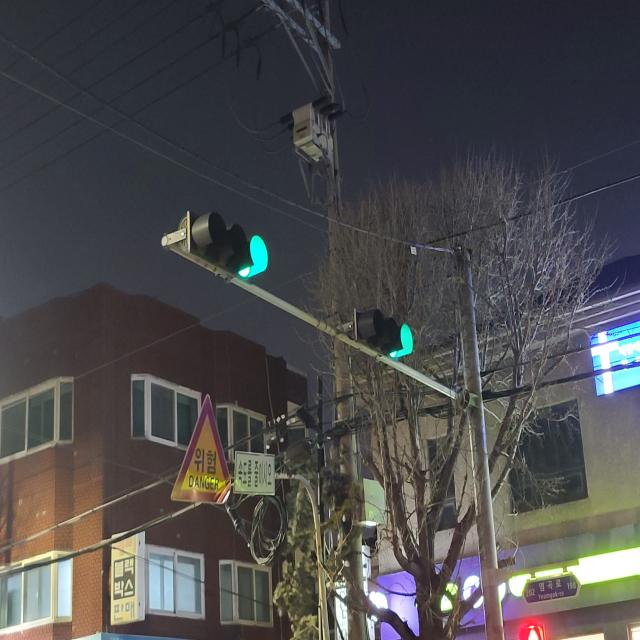Green Light: (234, 224, 273, 286), (392, 312, 420, 360)
